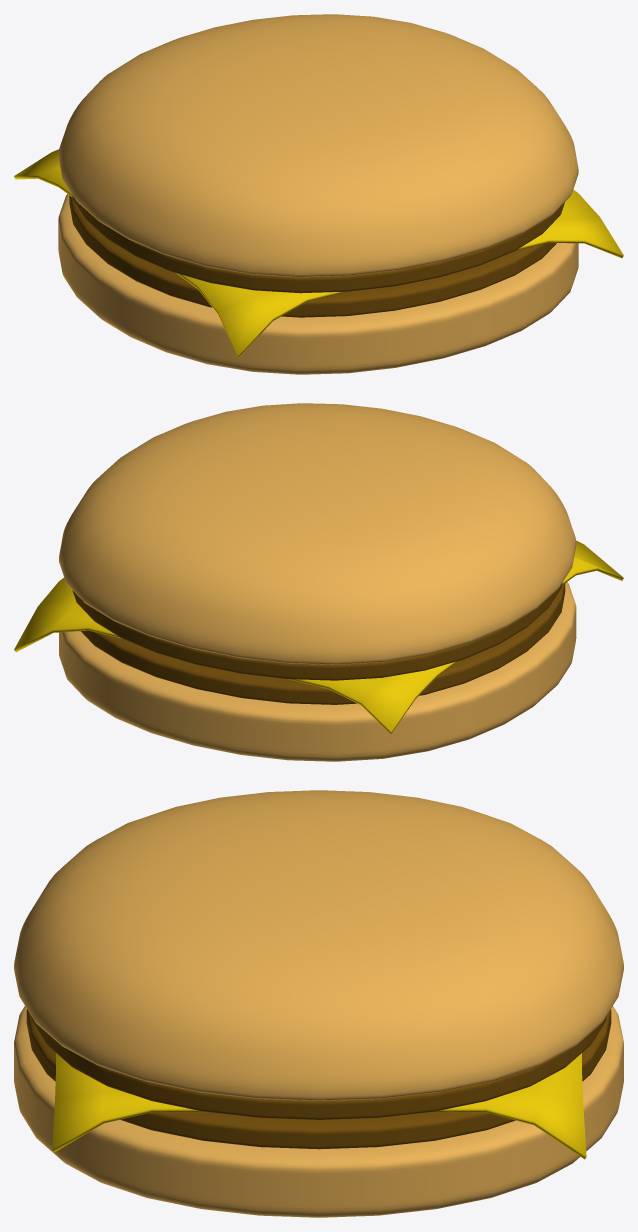
Rendered from burger.glb.
3 renders of one model, top to bottom at view 1: azimuth 30°, elevation 25°; view 2: azimuth 150°, elevation 25°; view 3: azimuth 270°, elevation 25°, orthographic. The views are drawn at different scales.
Visible parts, largest first — view 1: Cube.003, Cube, Cube.001, Plane, Cube.002; view 2: Cube.003, Cube, Cube.001, Plane, Cube.002; view 3: Cube.003, Cube, Cube.001, Plane, Cube.002.
Part boxes in pixels (x1,y1,x2,y2): Cube.003: [58, 14, 578, 277]; Cube: [58, 194, 578, 374]; Cube.001: [69, 195, 556, 317]; Plane: [14, 149, 623, 358]; Cube.002: [72, 195, 564, 293]; Cube.003: [59, 403, 576, 664]; Cube: [59, 582, 576, 761]; Cube.001: [81, 583, 565, 704]; Plane: [14, 540, 623, 733]; Cube.002: [72, 583, 562, 680]; Cube.003: [14, 790, 623, 1100]; Cube: [14, 1006, 623, 1217]; Cube.001: [26, 1009, 611, 1149]; Plane: [52, 1053, 586, 1159]; Cube.002: [31, 1016, 606, 1119].
Size of the model in its own units: 9.17 by 4.08 by 9.17.
